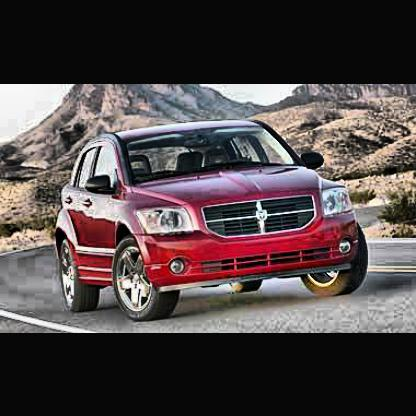Dodge Caliber Wagon 2007: (52, 118, 372, 323)
